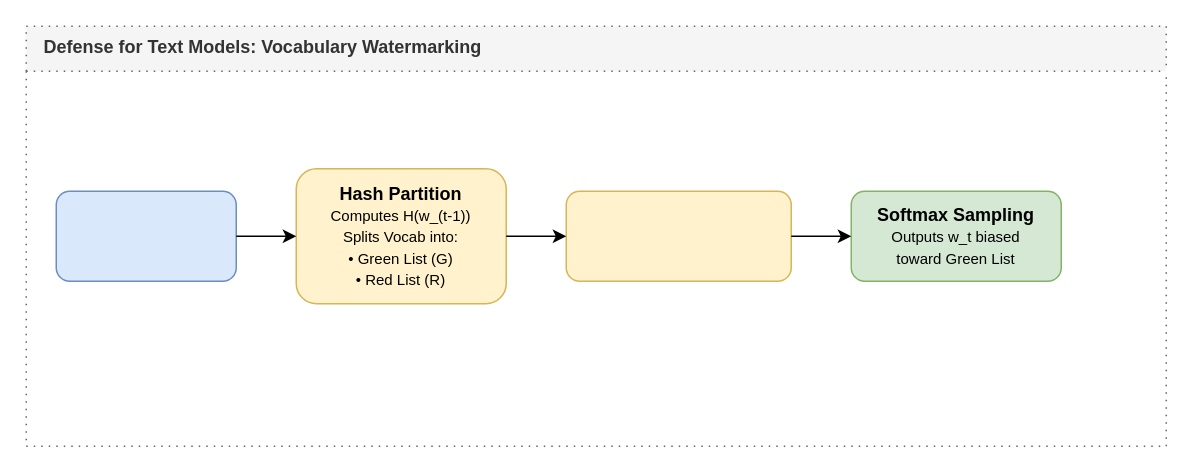
The diagram is 1193 pixels wide and 473 high, and some of its shapes have lost their labels. Here are the shapes that lost their labels. From the top down, the centre of each, then its label:
At [145,235]: "Previous Token w_(t-1)".
At [678,235]: "Logit Bias Injection Adds bias δ to logits of Green List tokens".
